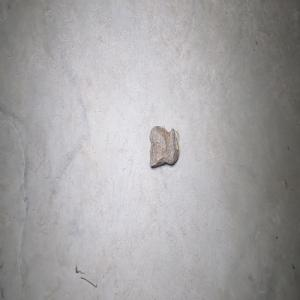Rock: (148, 122, 179, 166)
